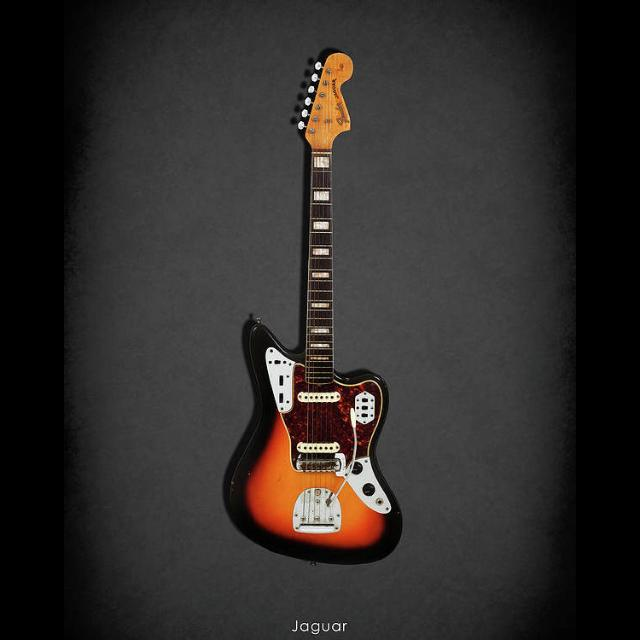Electric-Guitar: (223, 45, 405, 563)
